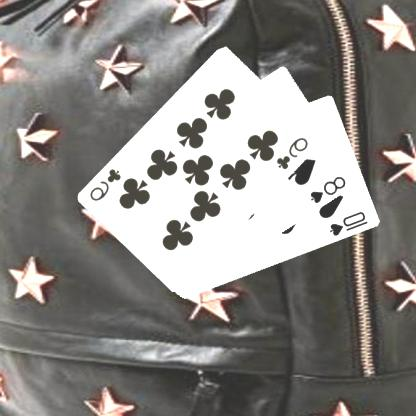10S: (328, 208, 372, 238)
8S: (309, 173, 350, 205)
9C: (276, 134, 312, 171), (89, 166, 125, 202)
